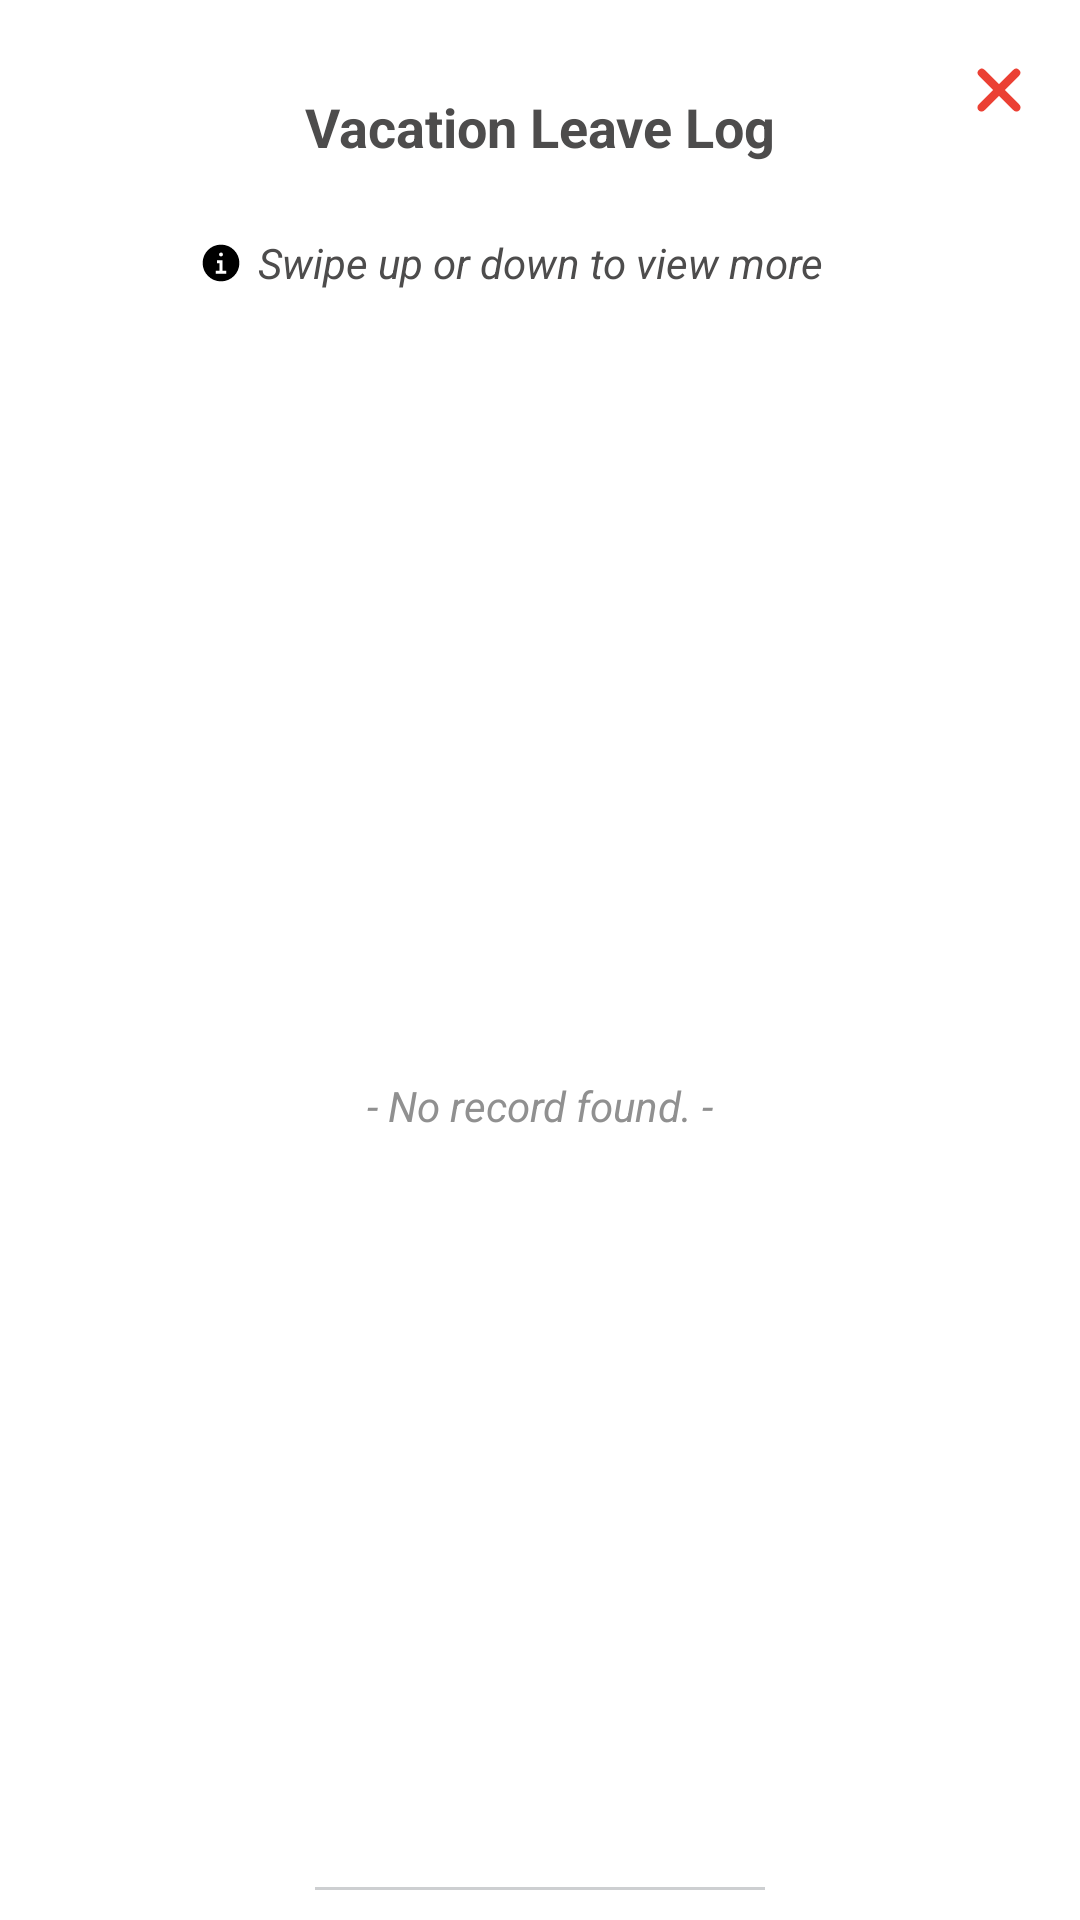

Named icons in this screenshot (1080×1920) and their bounding boxes, (x1, y1, x2, y2):
close: (977, 68, 1021, 112)
info: (202, 244, 240, 282)
